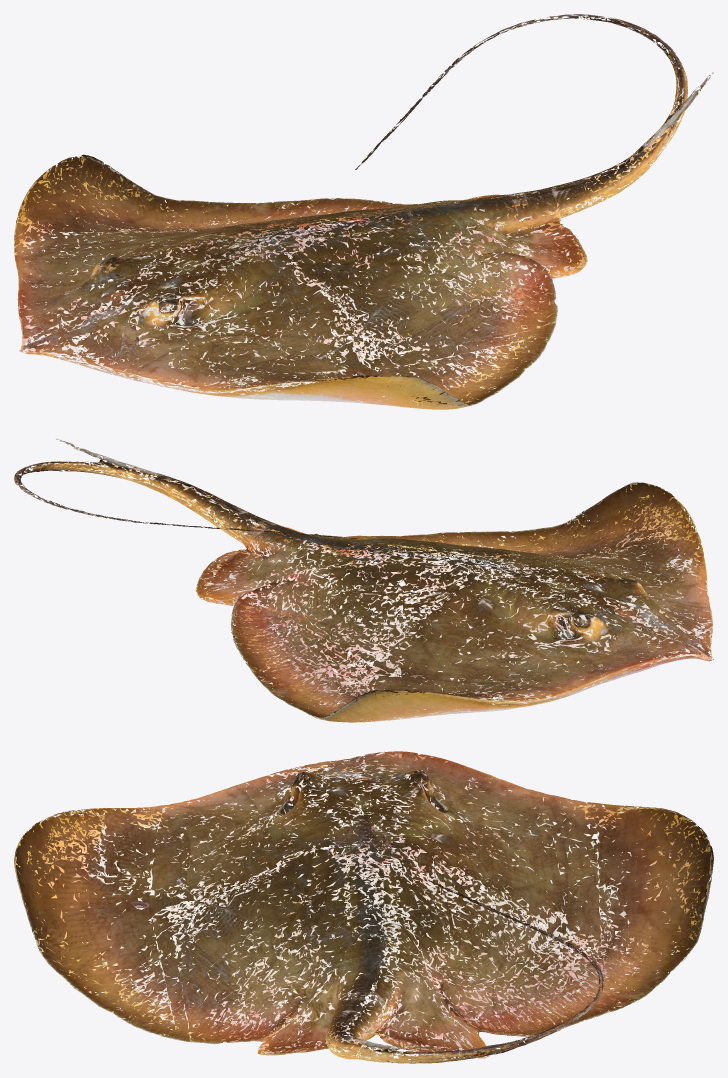
Rendered from stingray.glb.
3 renders of one model, top to bottom at view 1: azimuth 30°, elevation 25°; view 2: azimuth 150°, elevation 25°; view 3: azimuth 270°, elevation 25°, orthographic. The views are drawn at different scales.
Visible parts, largest first — view 1: Object_6, Object_12, Object_17; view 2: Object_6, Object_17, Object_12; view 3: Object_6, Object_17, Object_12.
Boxes of the visible parts, left/top/right/bottom form: Object_6: left=14, top=14, right=710, bottom=402; Object_12: left=14, top=17, right=713, bottom=406; Object_17: left=14, top=14, right=712, bottom=409; Object_6: left=17, top=440, right=712, bottom=722; Object_17: left=14, top=439, right=713, bottom=719; Object_12: left=14, top=438, right=711, bottom=722; Object_6: left=14, top=751, right=711, bottom=1063; Object_17: left=15, top=753, right=713, bottom=1063; Object_12: left=31, top=755, right=713, bottom=1059.
Bounding box in the file's own units: 16.94 × 3.3 × 12.78.
Materials: 3 (3 with a texture image).
